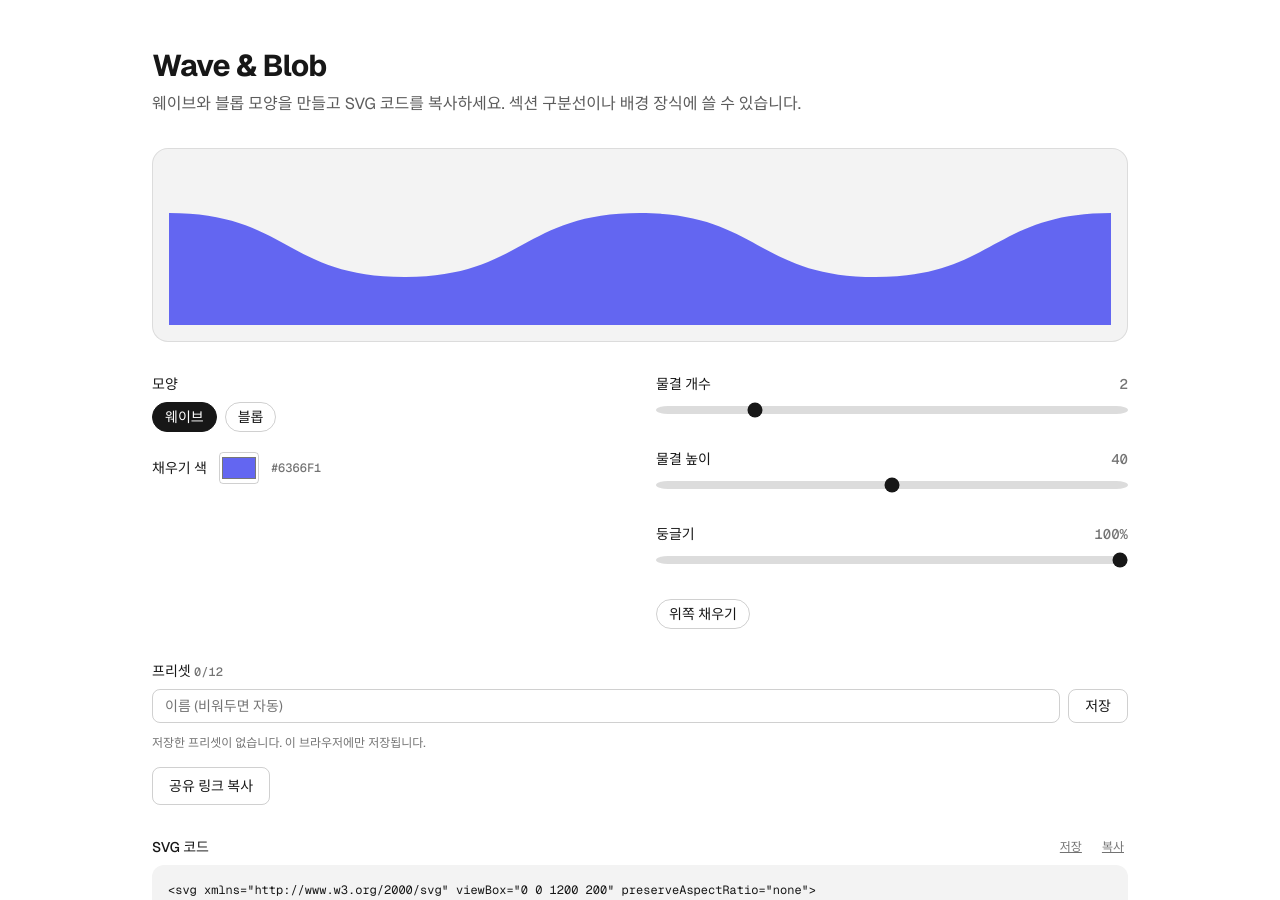
Test: SvgShapeMaker › 블롭으로 바꾸면 블롭 조절판과 200×200 상자가 나온다
Click the button "블롭" at (250, 417), box [225,402,276,432]
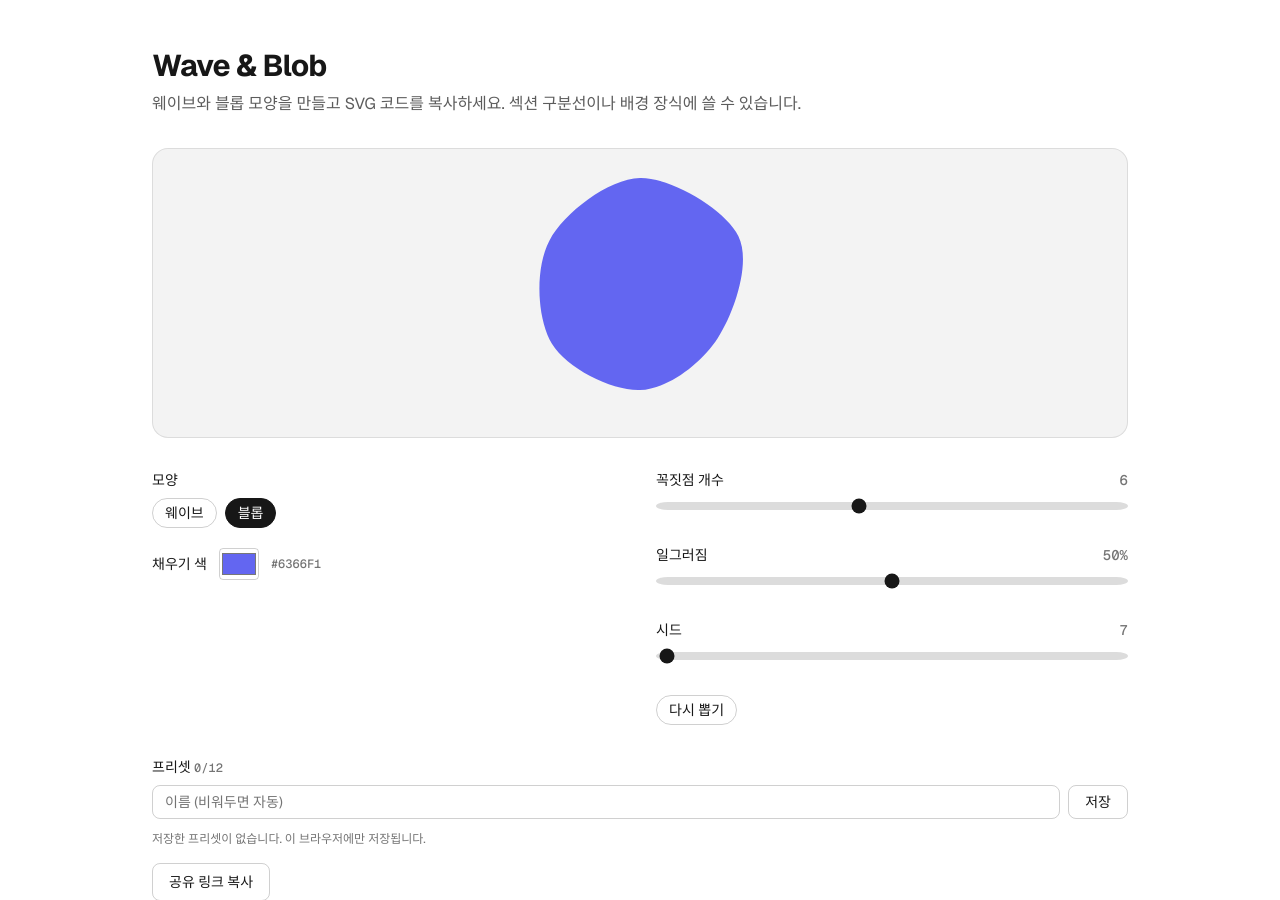
Expected: the slider labelled "꼭짓점 개수 6" is shown, [656,494,1128,518]
Result: the slider labelled "물결 개수" is gone
